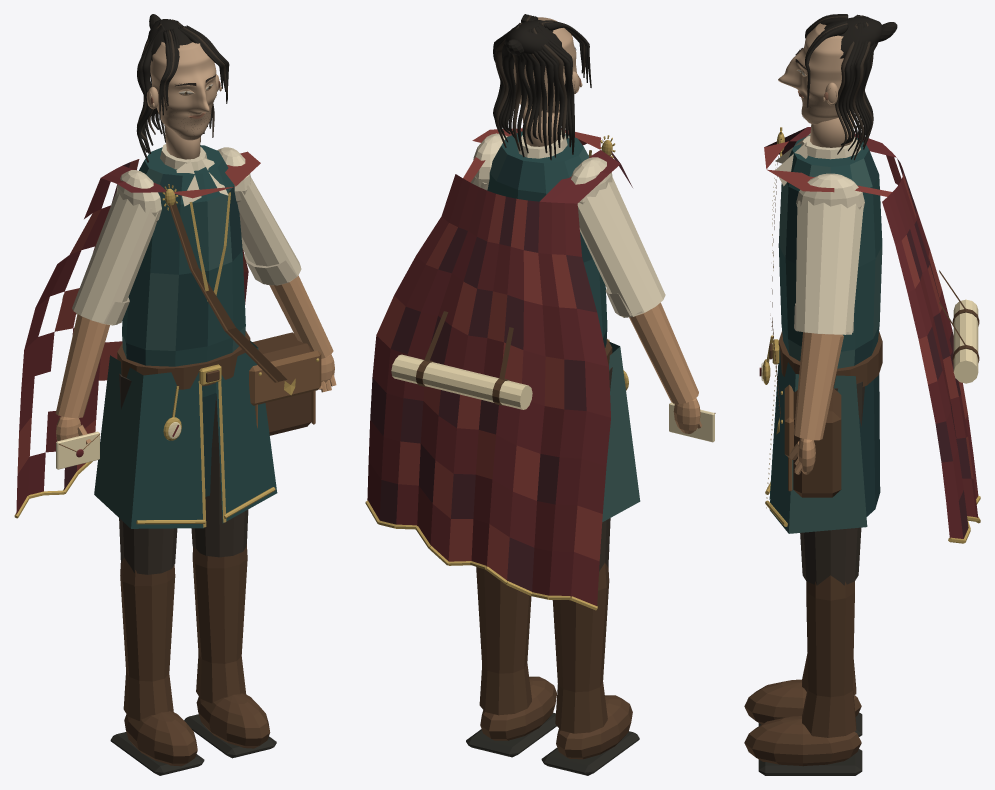
The model's file is courier.glb.
3 renders of one model, left to right at view 1: azimuth 30°, elevation 25°; view 2: azimuth 150°, elevation 25°; view 3: azimuth 270°, elevation 25°, orthographic. The views are drawn at different scales.
Parts seen in each view (by area): view 1: Waistcoat, Split_coat_R, Cloak_folds, Boot_shaft_R, Boot_shaft_L, Split_coat_L, Linen_sleeve_R, Face, Forearm_R, Linen_sleeve_L, Trouser_thigh_L, Boot_toe_L (+18 smaller); view 2: Cloak_folds, Boot_shaft_R, Boot_shaft_L, Linen_sleeve_R, Waistcoat, Split_coat_R, Map_roll, Forearm_R, Boot_toe_L, Boot_toe_R, Boot_sole_R, Boot_sole_L (+7 smaller); view 3: Cloak_folds, Waistcoat, Linen_sleeve_L, Boot_shaft_L, Split_coat_L, Boot_toe_L, Forearm_L, Face, Trouser_thigh_L, Messenger_satchel, Back_coat, Boot_toe_R (+13 smaller).
Boxes of the visible parts, x1,y1,x2,y2 form: Waistcoat: (122, 145, 245, 397); Split_coat_R: (94, 355, 203, 528); Cloak_folds: (16, 151, 260, 514); Boot_shaft_R: (120, 558, 175, 720); Boot_shaft_L: (192, 544, 247, 703); Split_coat_L: (216, 341, 277, 523); Linen_sleeve_R: (72, 190, 159, 325); Face: (150, 42, 216, 140); Forearm_R: (55, 314, 109, 417); Linen_sleeve_L: (237, 177, 301, 285); Trouser_thigh_L: (191, 394, 248, 557); Boot_toe_L: (196, 693, 270, 748); Cloak_folds: (367, 128, 632, 605); Boot_shaft_R: (552, 563, 609, 733); Boot_shaft_L: (476, 567, 531, 715); Linen_sleeve_R: (577, 176, 665, 317); Waistcoat: (487, 131, 607, 347); Split_coat_R: (602, 341, 640, 521); Map_roll: (391, 354, 532, 409); Forearm_R: (629, 302, 698, 404); Boot_toe_L: (480, 676, 556, 740); Boot_toe_R: (556, 695, 632, 759); Boot_sole_R: (541, 731, 639, 775); Boot_sole_L: (466, 712, 556, 757); Cloak_folds: (764, 127, 978, 538); Waistcoat: (778, 135, 882, 368); Linen_sleeve_L: (796, 200, 863, 334); Boot_shaft_L: (802, 575, 856, 737); Split_coat_L: (769, 349, 867, 533); Boot_toe_L: (744, 716, 861, 766); Forearm_L: (793, 332, 843, 440); Face: (778, 23, 849, 124); Trouser_thigh_L: (800, 381, 864, 585); Messenger_satchel: (793, 388, 841, 497); Back_coat: (859, 374, 880, 516); Boot_toe_R: (744, 679, 861, 724).
Size of the model in its own units: 0.7395 by 1.75 by 0.5149.
